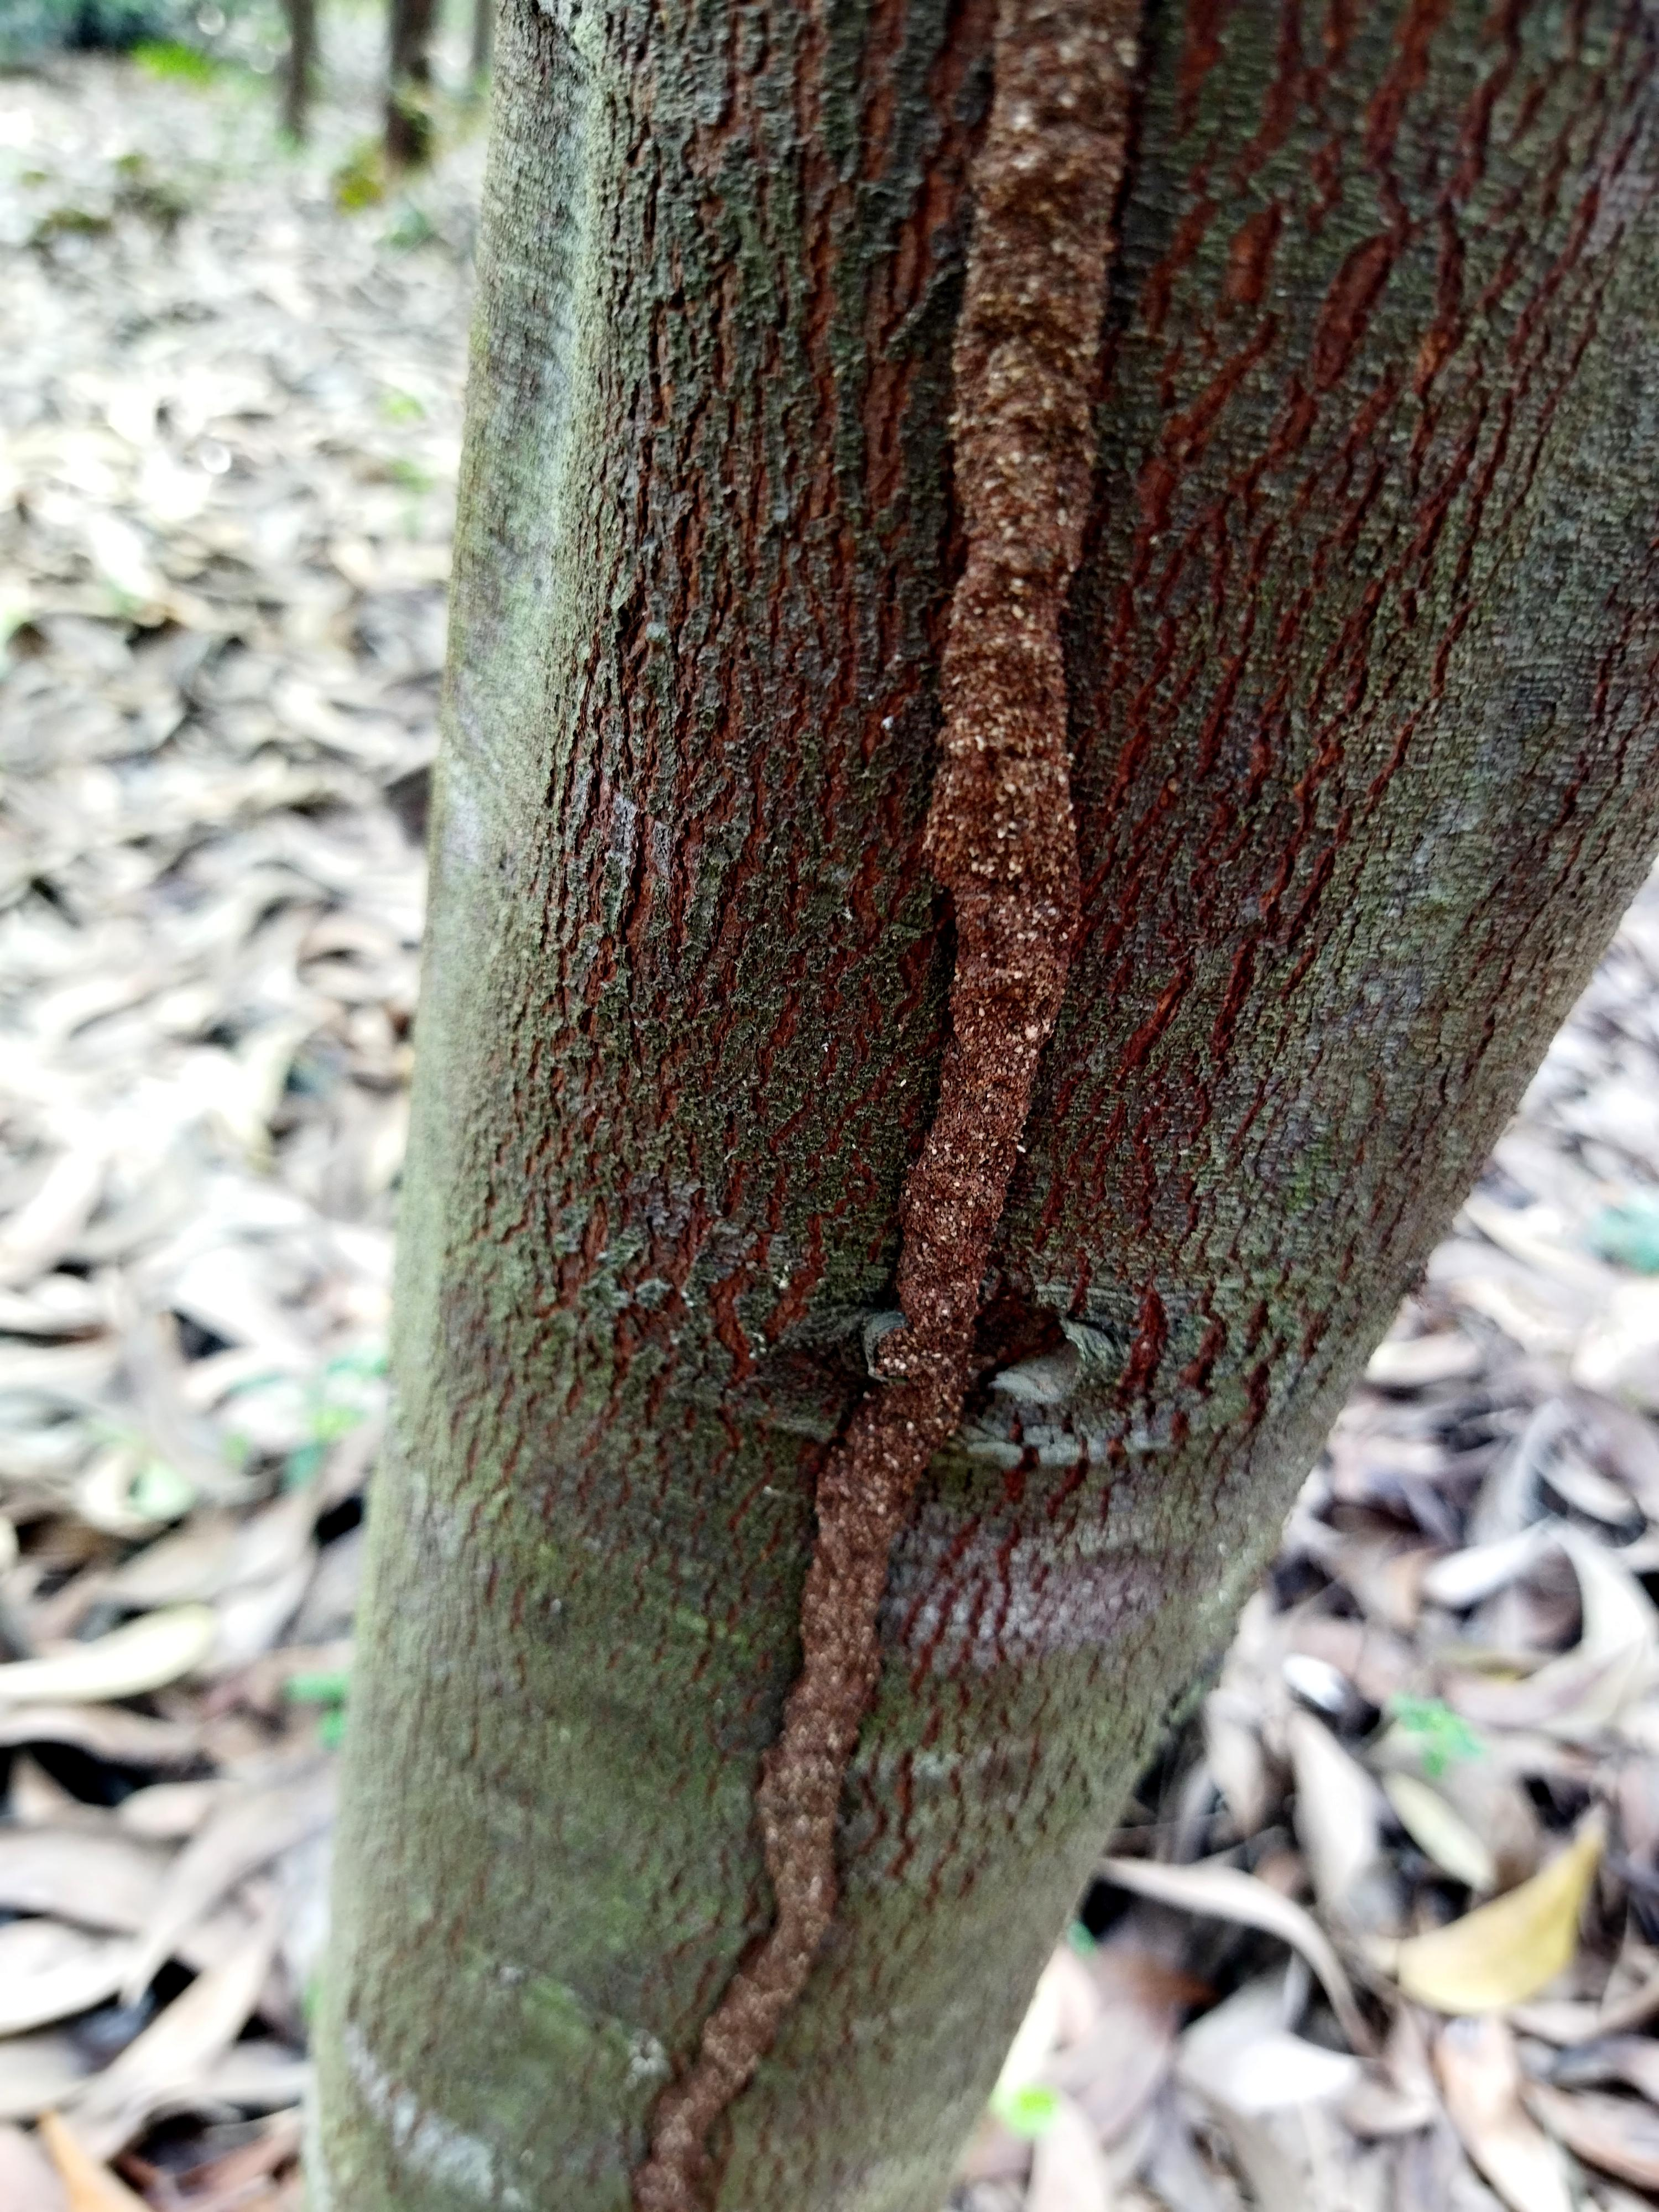Termite - Nest: (638, 0, 1161, 2212)
